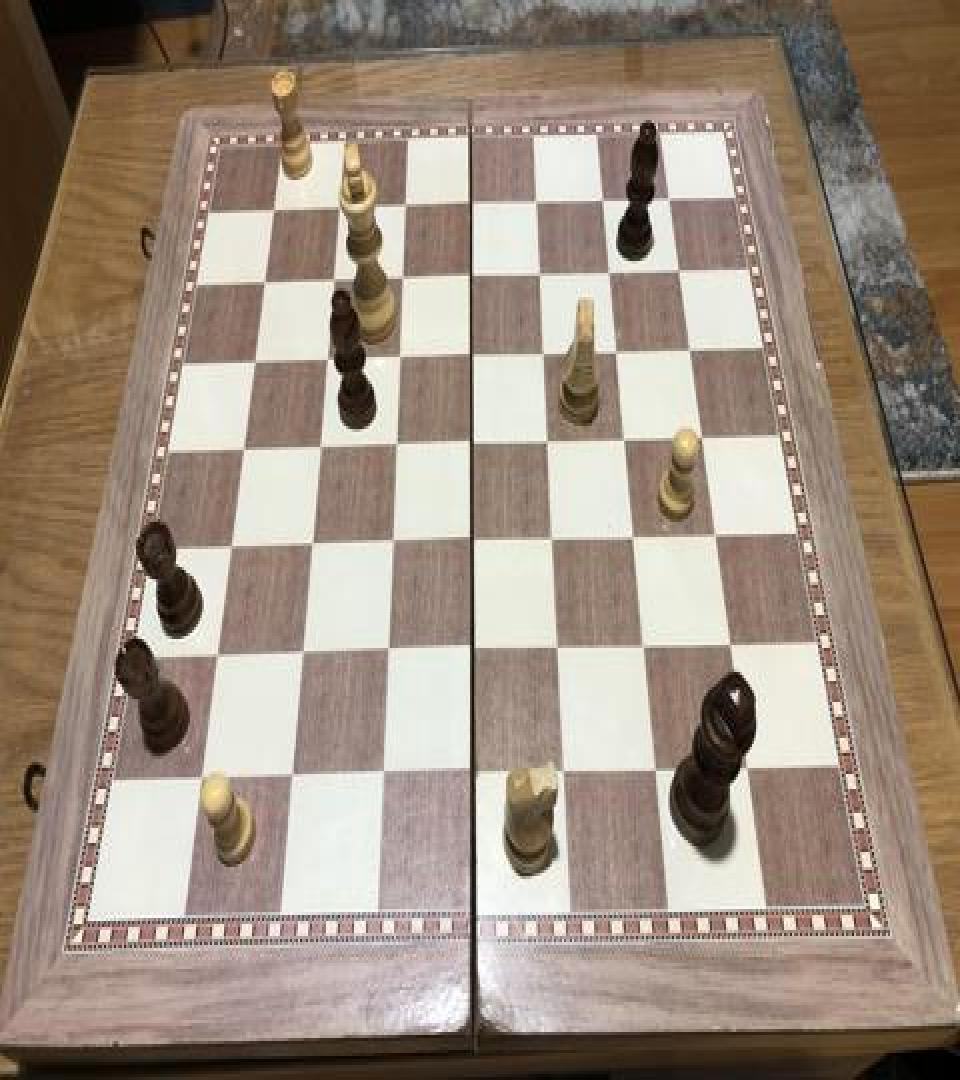xcorner: (705, 514, 729, 551), (463, 520, 487, 557), (738, 748, 762, 785), (464, 754, 488, 791), (657, 178, 681, 214), (592, 180, 616, 216), (526, 182, 550, 218), (460, 183, 484, 219), (395, 184, 419, 220), (329, 186, 353, 222), (264, 189, 288, 225), (667, 250, 691, 286), (599, 252, 623, 288), (530, 254, 554, 290), (461, 255, 485, 291), (392, 256, 416, 292), (323, 258, 347, 294), (254, 261, 278, 297), (606, 332, 630, 368), (534, 333, 558, 369), (461, 334, 485, 370), (389, 336, 413, 372), (317, 338, 341, 374), (244, 340, 268, 376), (691, 417, 715, 453), (615, 418, 639, 454), (538, 420, 562, 456), (462, 423, 486, 459), (386, 424, 410, 460), (309, 426, 333, 462), (233, 428, 257, 464), (624, 516, 648, 552), (543, 519, 567, 555), (382, 522, 406, 558), (301, 524, 325, 560), (221, 526, 245, 562), (721, 624, 745, 660), (635, 627, 659, 663), (549, 628, 573, 664), (463, 630, 487, 666), (378, 633, 402, 669), (292, 634, 316, 670), (207, 636, 231, 672), (647, 750, 671, 786), (555, 753, 579, 789), (373, 756, 397, 792), (282, 759, 306, 795), (191, 760, 215, 796), (679, 329, 703, 364)
